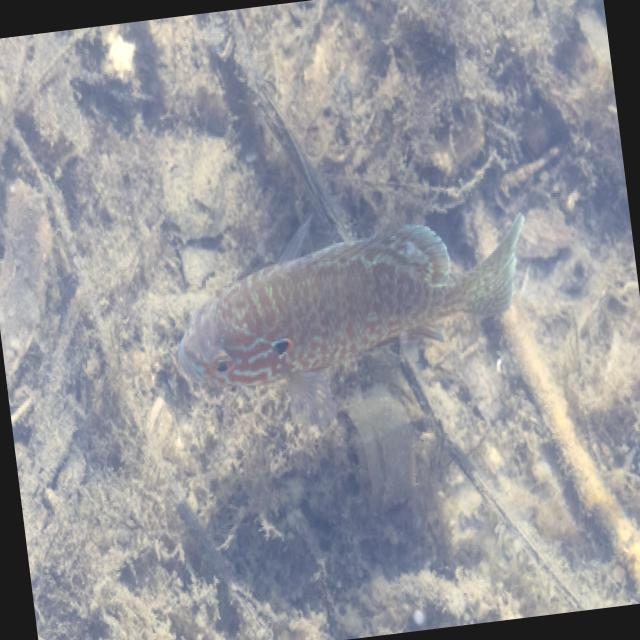Gunes Levregi: (158, 185, 548, 402)
